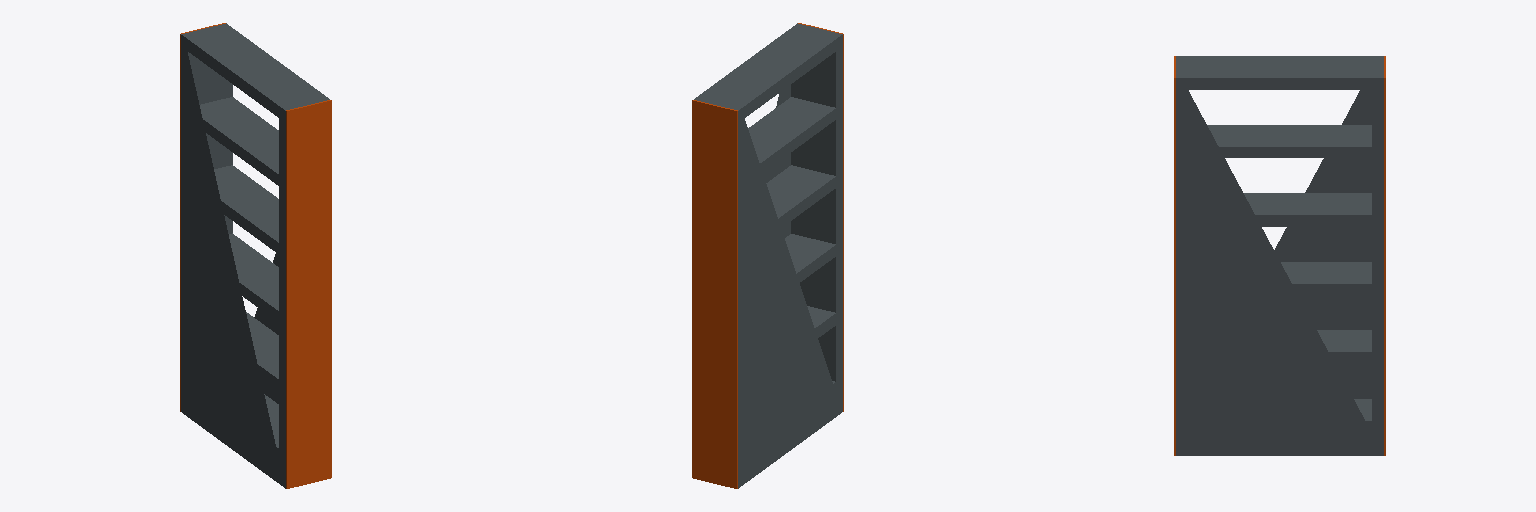
Rendered from Kej1mCoGo.obj.
3 views of the same model, side by side, from view 1: azimuth 30°, elevation 25°; view 2: azimuth 150°, elevation 25°; view 3: azimuth 270°, elevation 25° (orthographic).
Visible parts, largest first — view 1: Cube.001; view 2: Cube.001; view 3: Cube.001.
Part boxes in pixels (x1,y1,x2,y2): Cube.001: (180,23,331,488); Cube.001: (692,23,843,488); Cube.001: (1174,56,1385,455).
Size of the model in its own units: 0.5 by 4 by 2.04.